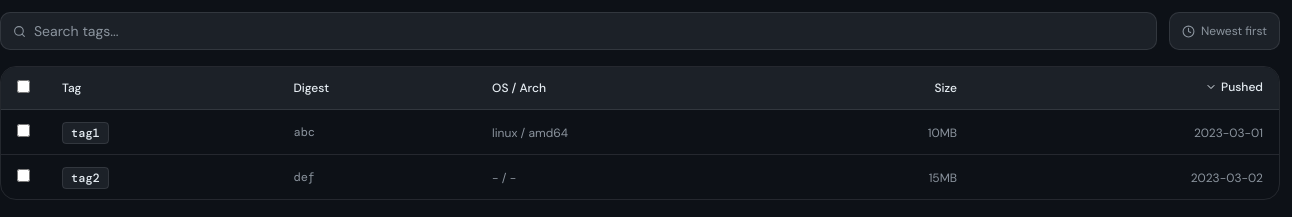
Scenario: TagsTab › selection › selects all tags via the header checkbox and pluralizes the label
What coordinates should you click on to do the following:
click the checkbox named "Select all tags"
I would click on:
 (24, 86)
Its box is [17,80,30,92].
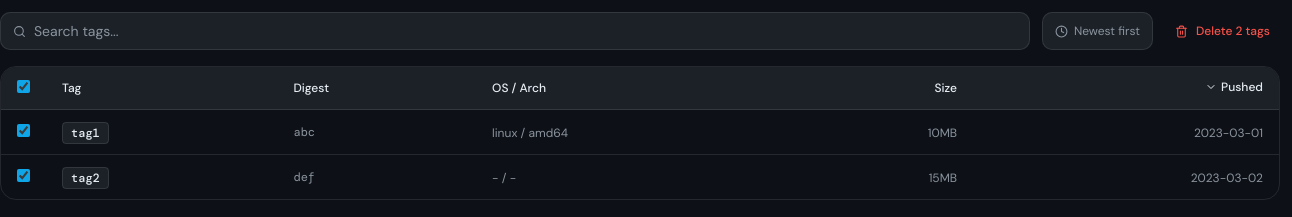
Result: the button "Delete 2 tags" is shown at [1165,17,1280,45]
